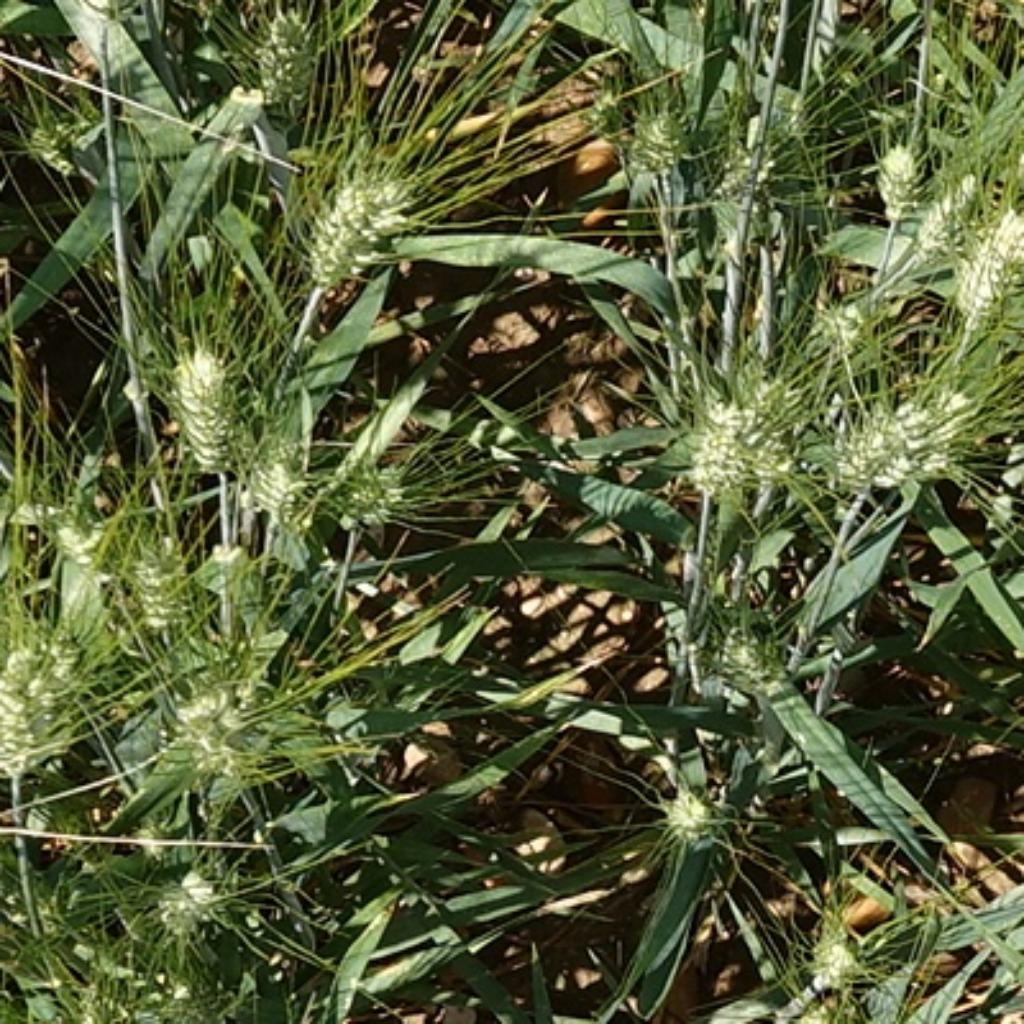0-0: (678, 61, 821, 245), (655, 340, 793, 519), (665, 560, 803, 714), (30, 481, 151, 606), (2, 616, 84, 785), (156, 327, 250, 468), (230, 404, 320, 522), (942, 197, 1024, 322), (240, 2, 332, 112), (306, 177, 390, 294), (112, 517, 199, 629), (332, 445, 435, 532), (169, 673, 259, 771), (902, 153, 986, 253), (803, 268, 901, 353), (10, 84, 97, 179), (140, 849, 230, 934), (616, 87, 696, 179), (898, 386, 971, 482), (849, 402, 927, 486), (655, 770, 734, 844), (801, 903, 865, 985), (867, 133, 926, 212), (46, 985, 151, 1024), (798, 983, 888, 1024), (158, 998, 225, 1024)
